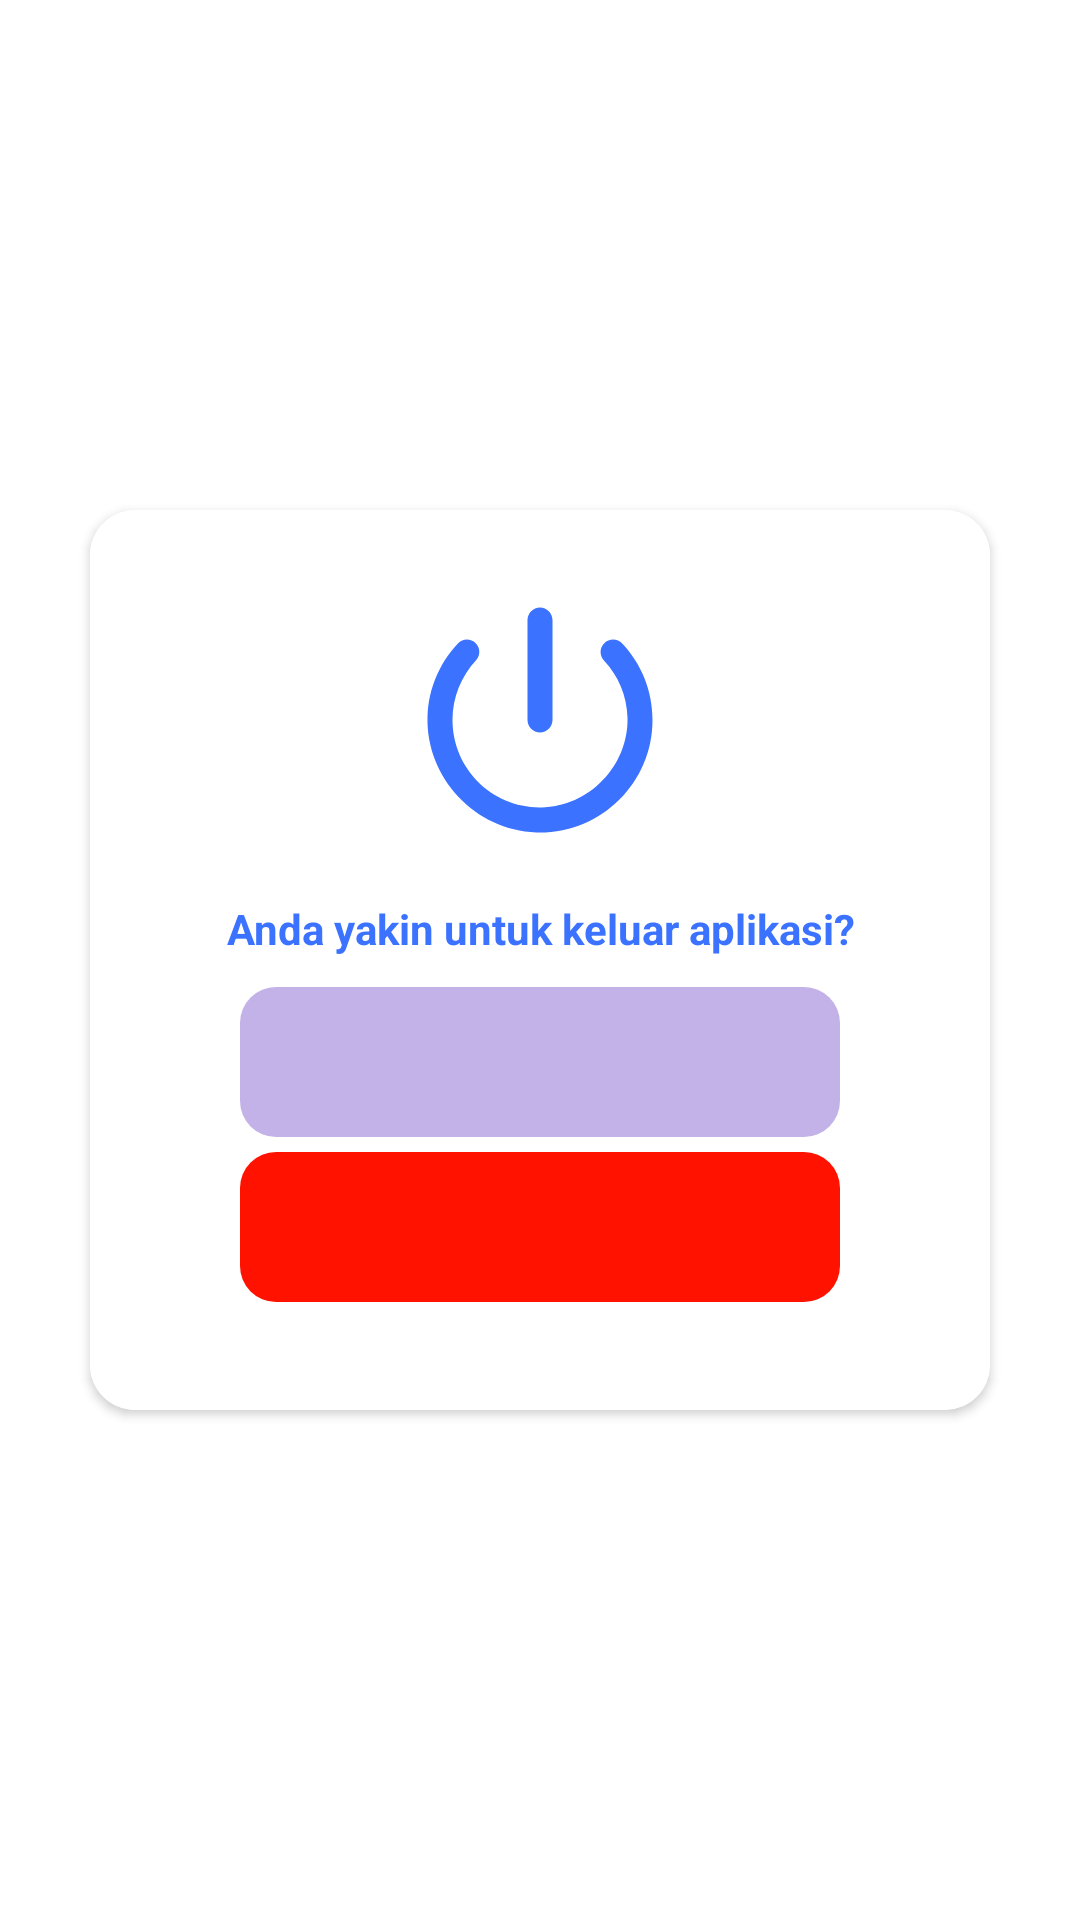

Icon click points for this 1080 × 1920 phone screenshot, format (x,y):
power: (540,720)
